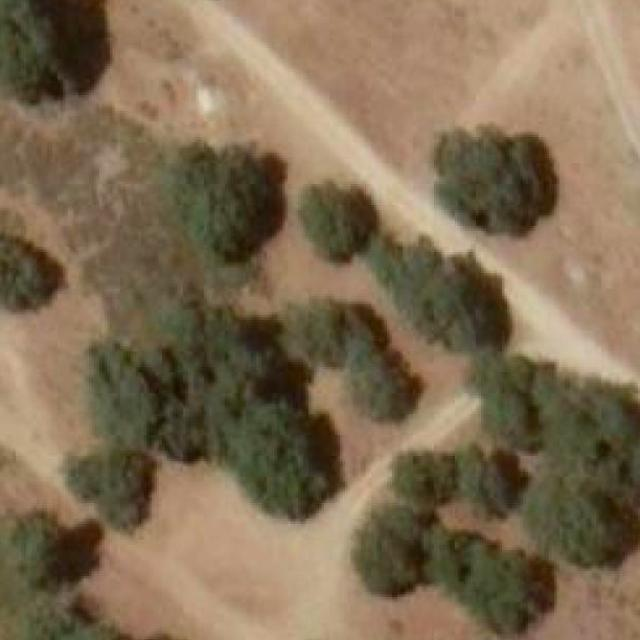Tree: (145, 297, 292, 461), (495, 358, 640, 489), (382, 240, 502, 350), (434, 127, 549, 231), (183, 142, 282, 255), (1, 0, 108, 100), (234, 404, 332, 511), (528, 474, 628, 566), (455, 534, 547, 628), (86, 334, 162, 441), (68, 443, 157, 522), (352, 511, 431, 590), (2, 508, 70, 590), (349, 352, 426, 419), (0, 228, 58, 310), (295, 306, 371, 367), (306, 184, 378, 247), (455, 456, 523, 517), (399, 453, 452, 503)
